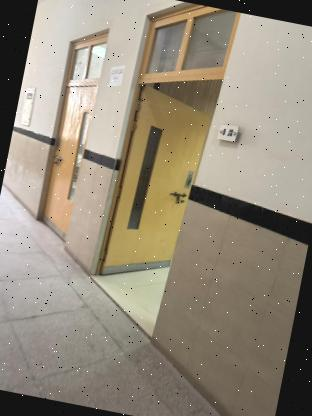door: (82, 0, 245, 321), (26, 16, 115, 250)
